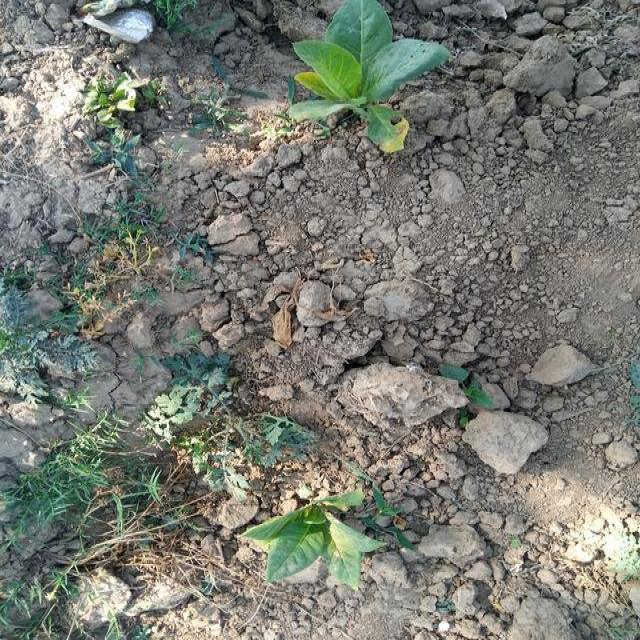crop: (290, 0, 436, 151), (246, 479, 376, 592)
